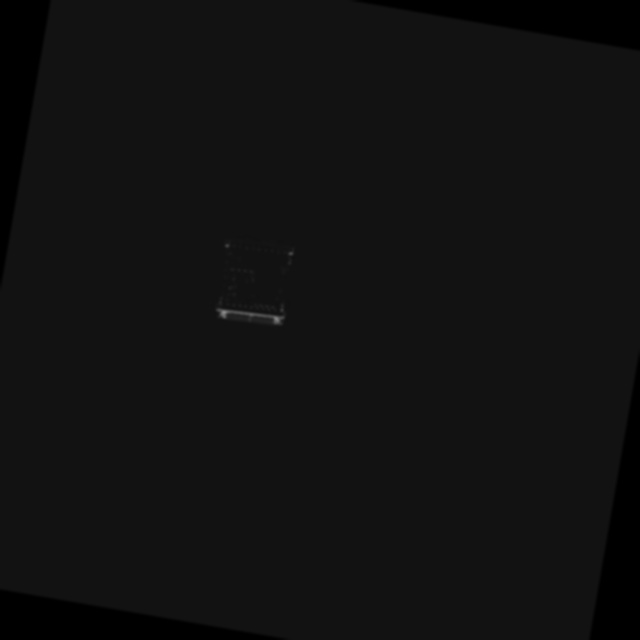satellite: (208, 224, 309, 342)
